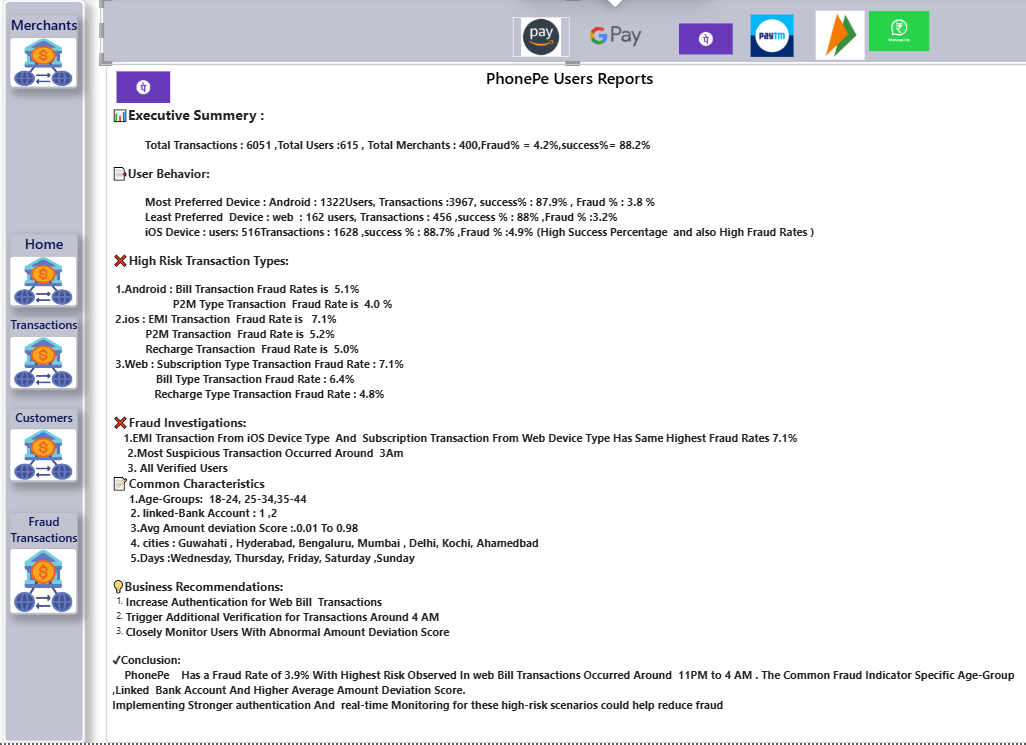

This screenshot's page, from the dashboard's own definition file:
{"tool":"powerbi","page":{"name":"Reports","canvas":[1400,1000],"ordinal":4},"visuals":[{"type":"shape","title":"Sidebar ","box":[135.7,0,1265.1,90.5],"z":0,"group":"g2"},{"type":"image","title":"Merchants","box":[13.4,23.5,92.2,98.9],"z":0,"group":"g3"},{"type":"textbox","title":"WhatsApp Pay Users  Reports","box":[142.4,102.2,1251.7,898.1],"z":0,"group":"g1"},{"type":"shape","title":"Sidebar ","box":[5,3.4,110.6,997],"z":1000},{"type":"image","title":"Amazon pay","box":[785.8,18.4,82.1,68.7],"z":1000,"group":"g2"},{"type":"image","box":[166,102.4,64.8,49.5],"z":1000,"group":"g1"},{"type":"image","title":"Transactions","box":[13.4,427.3,92.2,98.9],"z":1000,"group":"g3"},{"type":"image","title":"Amazon pay","box":[1166.2,11.7,80.4,68.7],"z":2000,"group":"g2"},{"type":"image","title":"Home","box":[13.4,316.7,92.2,98.9],"z":2000,"group":"g3"},{"type":"image","title":"Amazon pay","box":[1089.1,18.4,77.1,65.3],"z":3000,"group":"g2"},{"type":"image","title":"Customers","box":[13.4,551.3,92.2,98.9],"z":3000,"group":"g3"},{"type":"image","title":"Amazon pay","box":[1000.3,23.5,72.1,57],"z":4000,"group":"g2"},{"type":"image","title":"Fraud Transactions","box":[13.4,690.4,92.2,137.4],"z":4000,"group":"g3"},{"type":"image","title":"Amazon pay","box":[911.5,21.8,72.1,68.7],"z":5000,"group":"g2"},{"type":"image","title":"Amazon pay","box":[688.7,26.8,75.4,53.6],"z":6000,"group":"g2"},{"type":"group","id":"g1","title":"WhatsAppPay","box":[142.4,102.2,1251.7,898.1],"z":6000},{"type":"group","id":"g2","title":"Group 1","box":[135.7,0,1265.1,90.5],"z":7000},{"type":"group","id":"g3","title":"Group 2","box":[13.4,23.5,92.2,804.3],"z":8000}]}

Visuals, with their boxes on the page's 1400x1000 design canvas (x1, y1, x2, y2). These are canvas units, not pixel positions in the 1026x745 screenshot, which may show the page scaled, cropped or inside an application window:
"Sidebar " shape: left=136, top=0, right=1401, bottom=90
"Merchants" image: left=13, top=24, right=106, bottom=122
"WhatsApp Pay Users  Reports" textbox: left=142, top=102, right=1394, bottom=1000
"Sidebar " shape: left=5, top=3, right=116, bottom=1000
"Amazon pay" image: left=786, top=18, right=868, bottom=87
image: left=166, top=102, right=231, bottom=152
"Transactions" image: left=13, top=427, right=106, bottom=526
"Amazon pay" image: left=1166, top=12, right=1247, bottom=80
"Home" image: left=13, top=317, right=106, bottom=416
"Amazon pay" image: left=1089, top=18, right=1166, bottom=84
"Customers" image: left=13, top=551, right=106, bottom=650
"Amazon pay" image: left=1000, top=24, right=1072, bottom=80
"Fraud Transactions" image: left=13, top=690, right=106, bottom=828
"Amazon pay" image: left=912, top=22, right=984, bottom=90
"Amazon pay" image: left=689, top=27, right=764, bottom=80
"WhatsAppPay" group: left=142, top=102, right=1394, bottom=1000
"Group 1" group: left=136, top=0, right=1401, bottom=90
"Group 2" group: left=13, top=24, right=106, bottom=828
